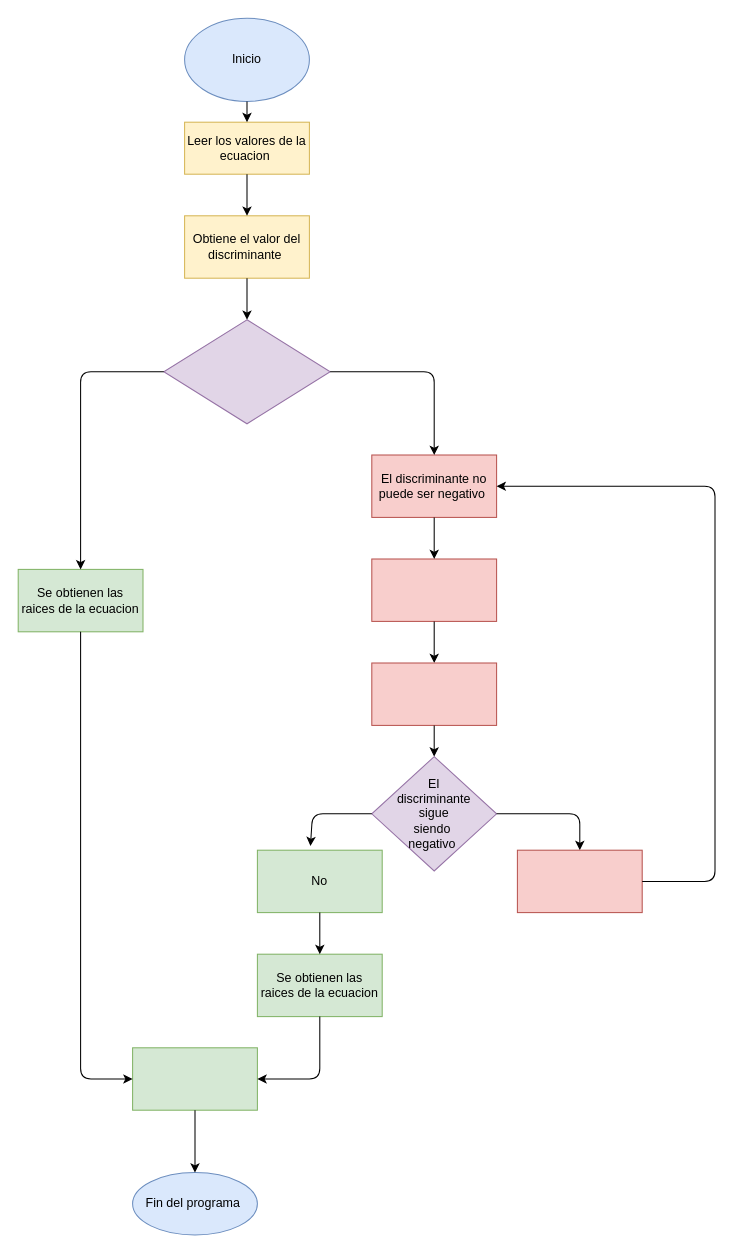
This 742x1253 diagram has some shape labels left out. The shapes that lost their labels are listed below. From the top down, each one's box as (x1, y1, x2, y2) in pixels, then its label:
(163, 319, 330, 424): El valor del discriminante es negativo
(371, 558, 497, 621): Lee los nuevos valores de la ecuacion
(371, 662, 497, 725): Calcular el nuevo Discriminante
(516, 849, 642, 913): Si
(132, 1047, 257, 1110): Se imprimen las raices
